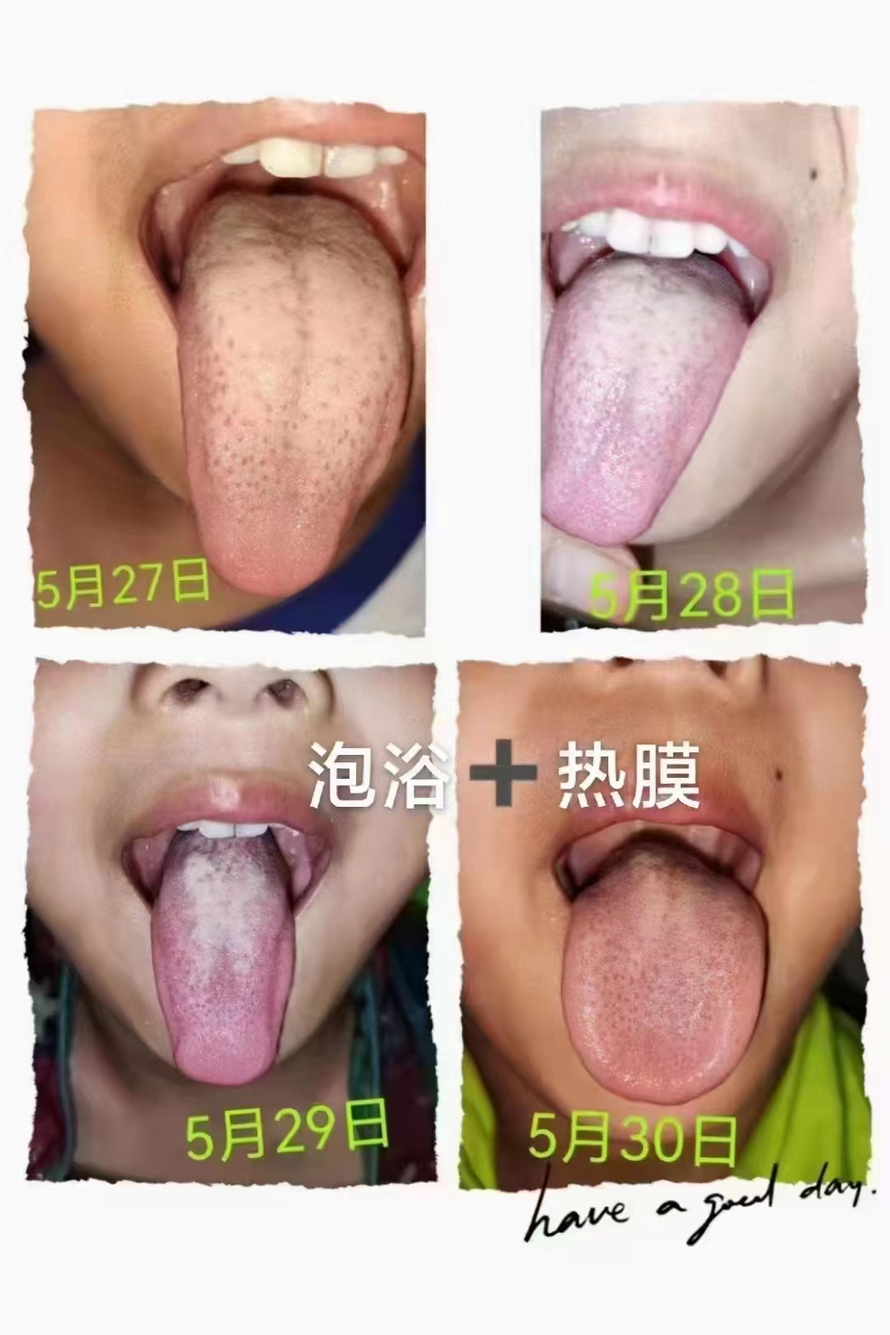baitaishe: (176, 192, 409, 598), (541, 246, 751, 550), (564, 842, 767, 1103), (151, 820, 295, 1084)
hongdianshe: (226, 335, 236, 350)
zishe: (151, 820, 295, 1084)
